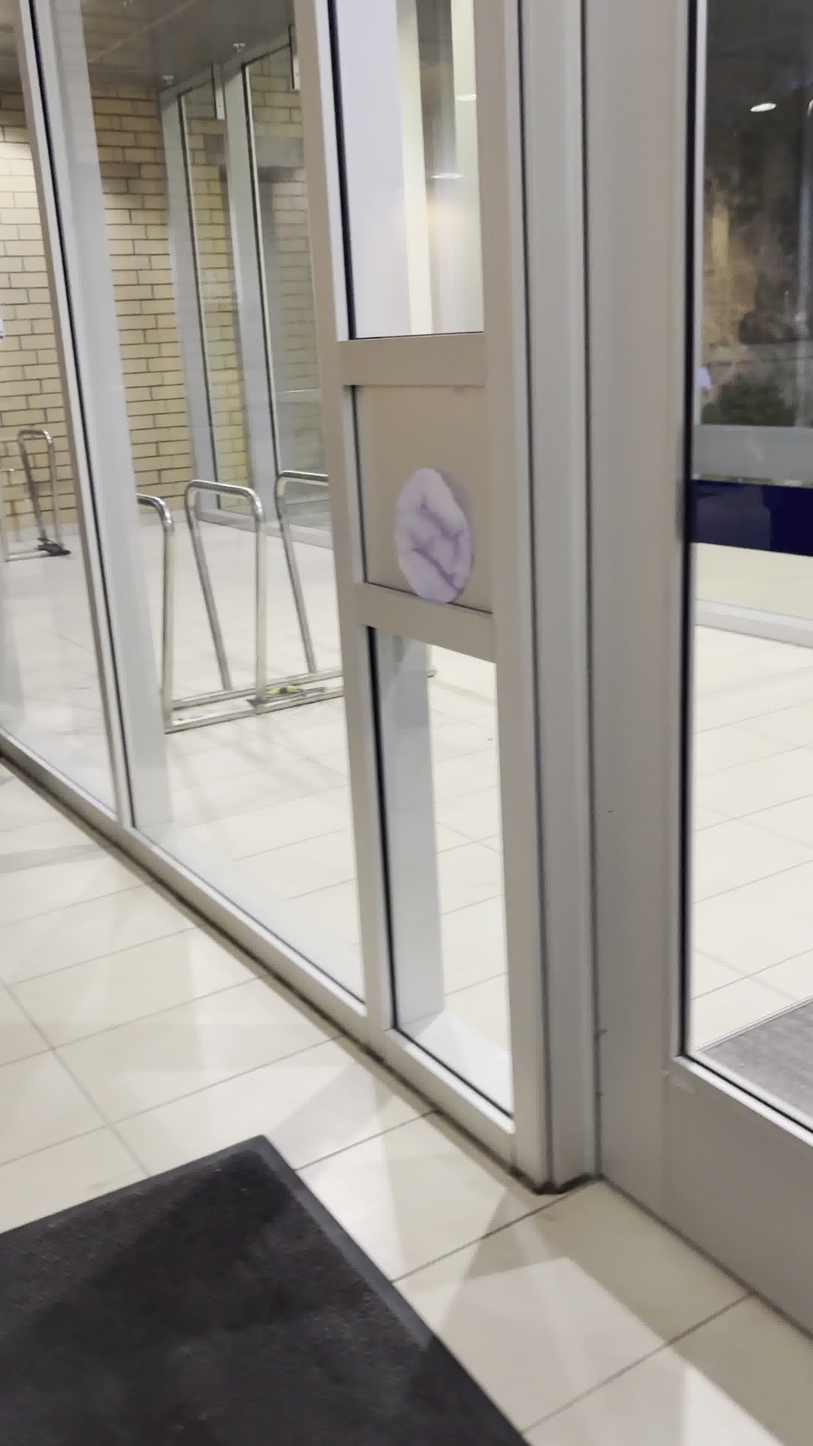Target: (384, 460, 482, 607)
